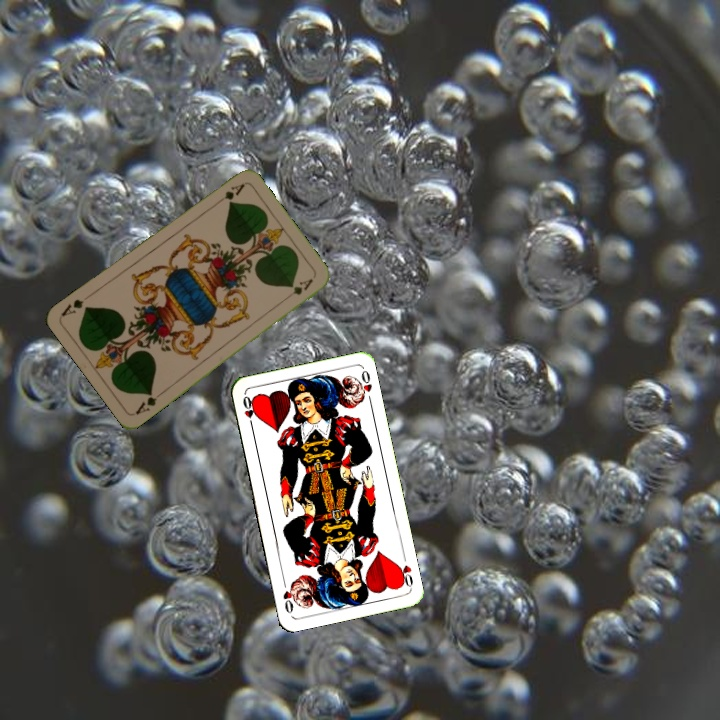GA: (131, 388, 166, 417), (220, 179, 247, 203)
HO: (393, 550, 416, 590), (239, 392, 258, 431)
